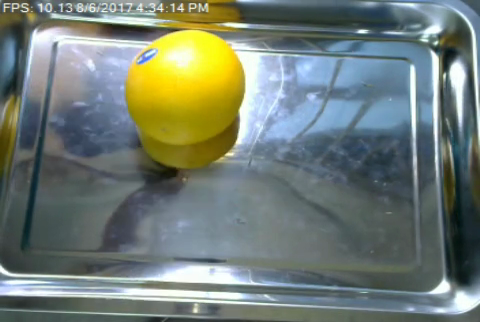Orange: (122, 28, 245, 144)
